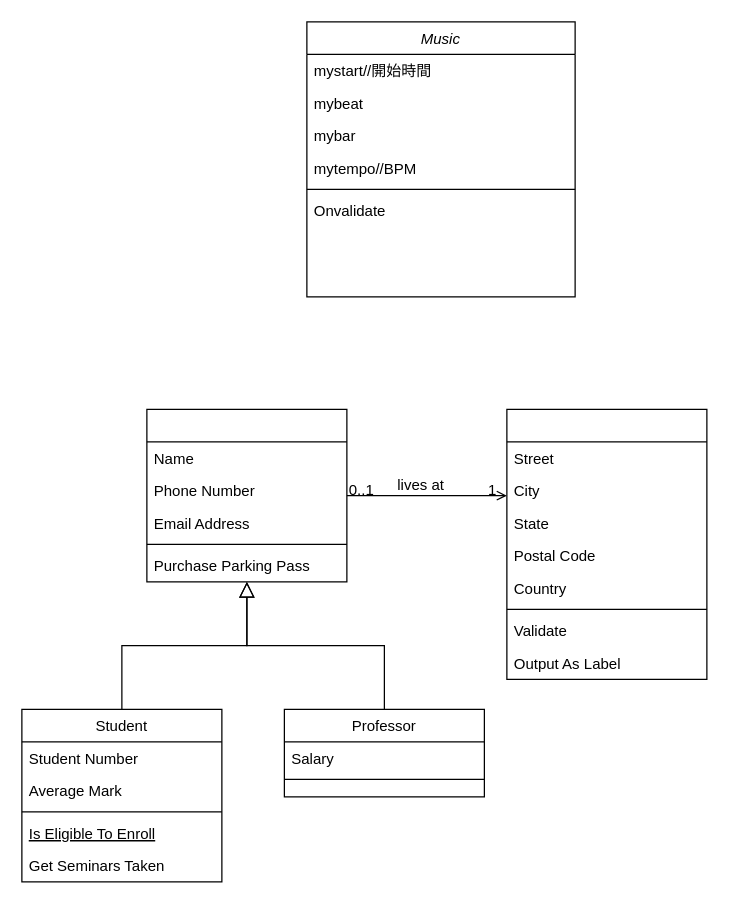
Some shapes in this 729 by 908 pixel diagram are drawn without their labels. Each missing label, with the box of its shape:
Address: (506, 408, 707, 679)
Person: (146, 408, 347, 582)
